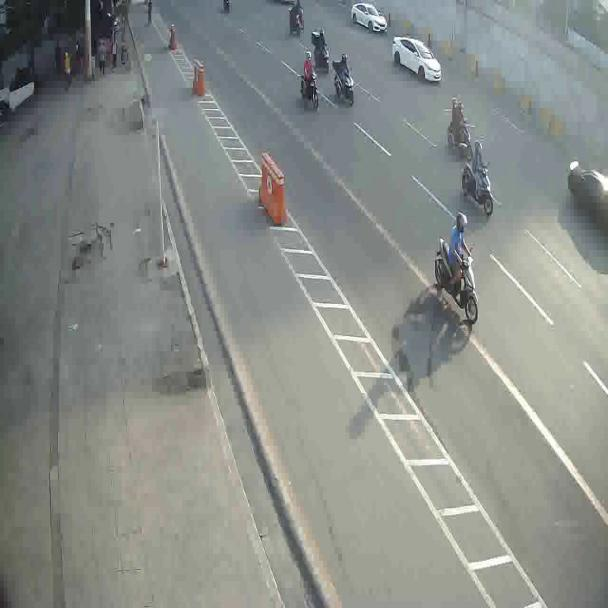motorcyclist: (432, 218, 480, 329), (459, 144, 494, 215), (445, 97, 472, 154), (330, 48, 354, 107), (300, 45, 320, 110), (287, 3, 304, 38)
vehicle: (566, 158, 608, 252), (392, 34, 442, 84), (351, 1, 390, 36)
